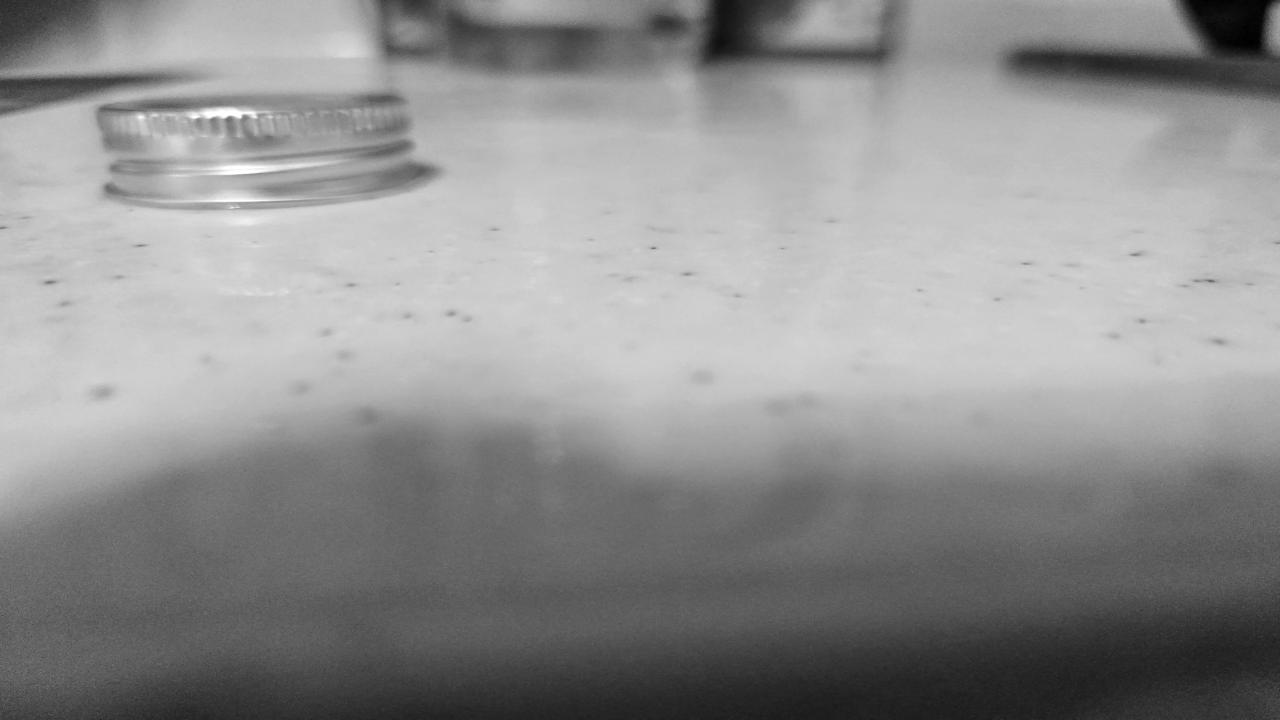bottle_cap: (86, 82, 442, 216)
